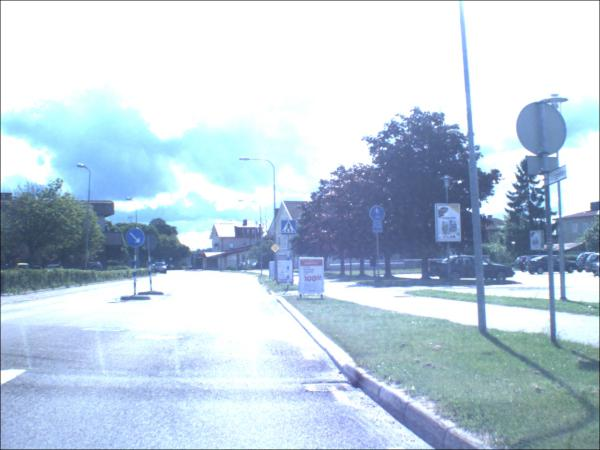PASS_RIGHT_SIDE: (127, 229, 148, 249)
PEDESTRIAN_CROSSING: (283, 222, 298, 236)
PRIORITY_ROAD: (272, 246, 281, 254)
